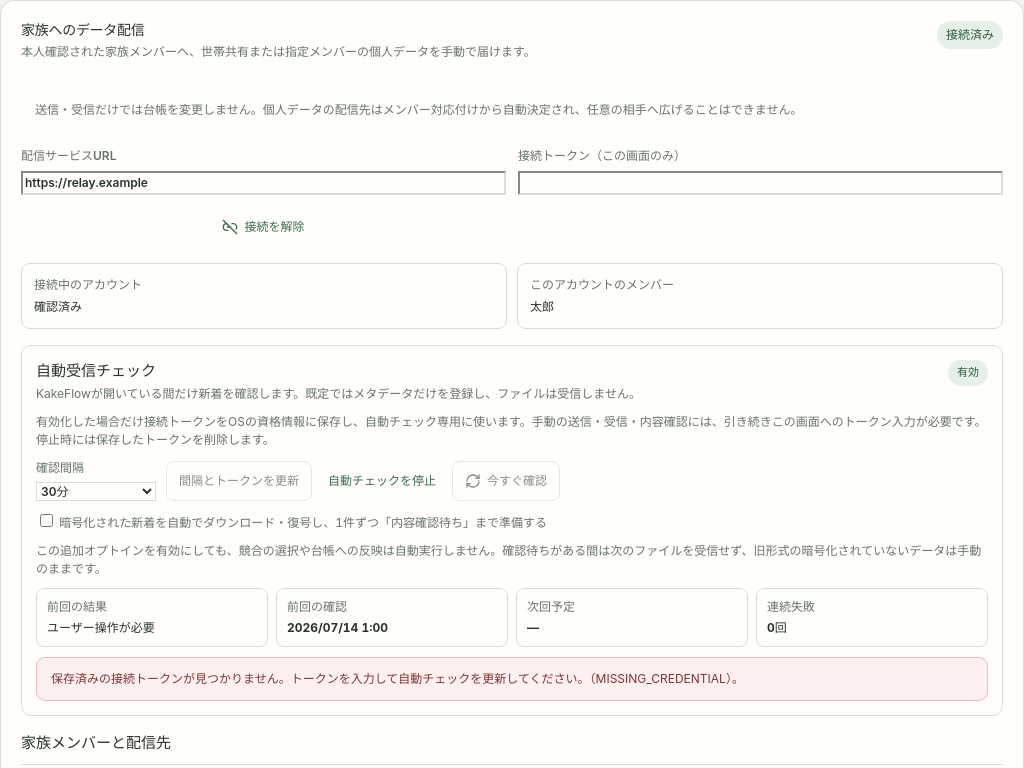
FamilyDeliveryPanel › shows the user action required for a terminally suspended background check
Check: the text "ユーザー操作が必要" is shown, box [47,620,155,635]
Check: the message shows "保存済みの接続トークンが見つかりません", box [51,671,744,686]
Type "replacement-token" into the password field labelled "接続トークン（この画面のみ）".
click(760, 183); type("replacement-token")  # box [518,171,1003,195]
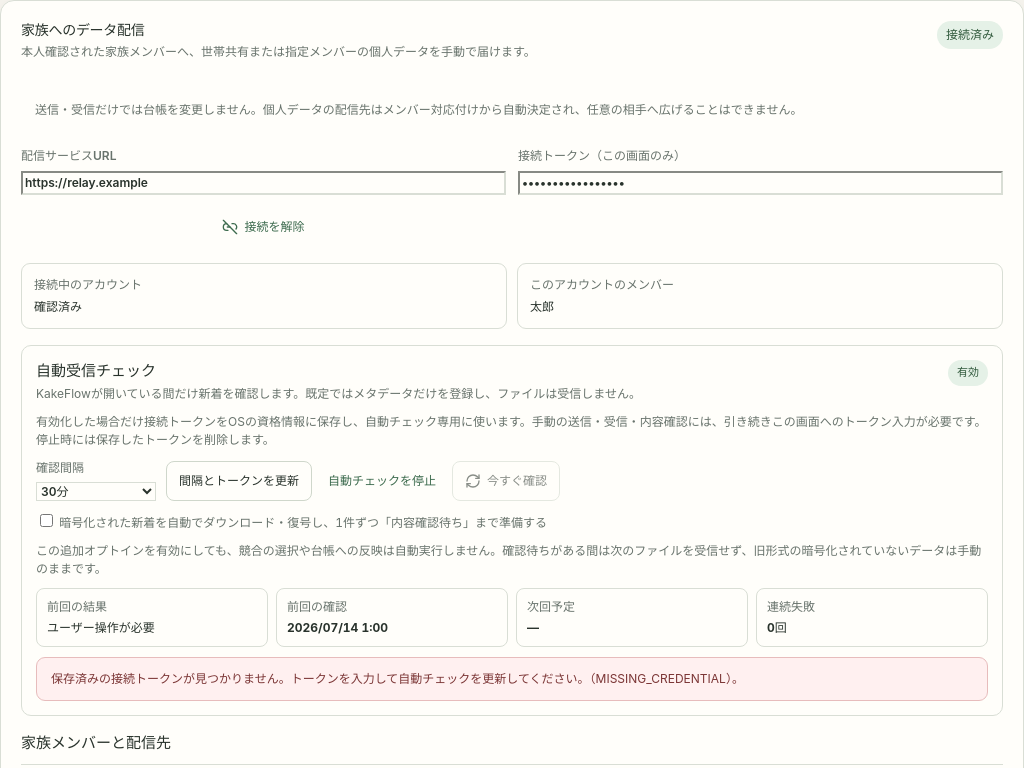
Check: the button "間隔とトークンを更新" is enabled, box [166,461,312,501]
